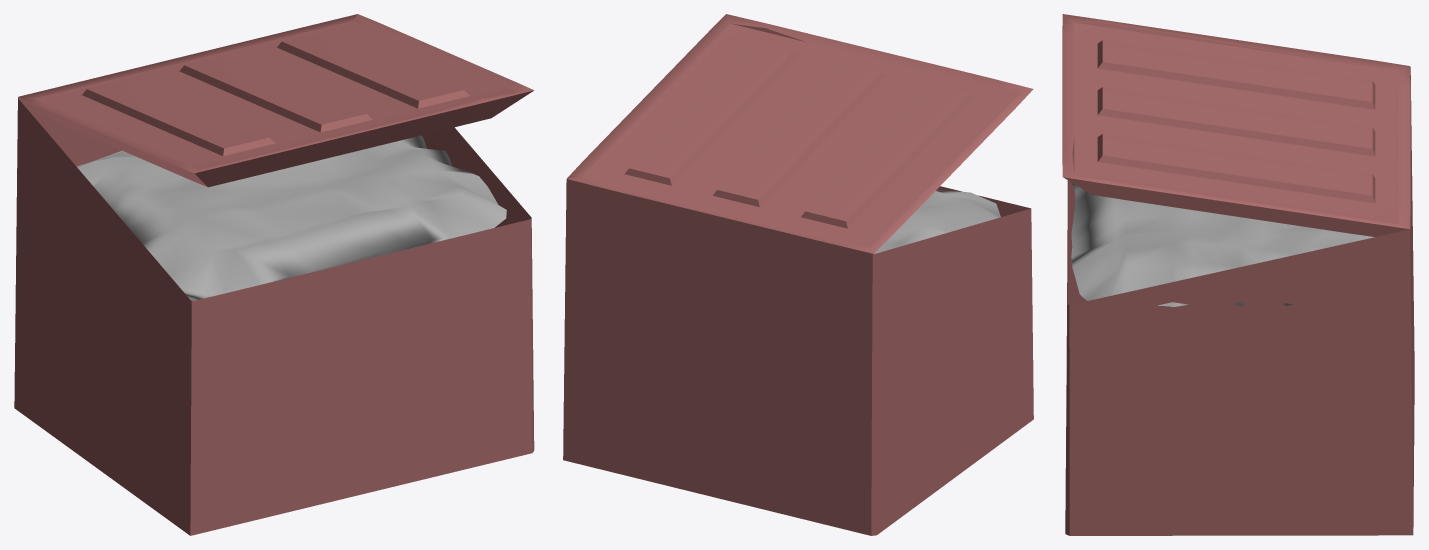
File: P_Basura_Container_JUNTO.fbx
3 views of the same model, side by side, from view 1: azimuth 30°, elevation 25°; view 2: azimuth 150°, elevation 25°; view 3: azimuth 270°, elevation 25° (orthographic). The views are drawn at different scales.
Parts seen in each view (by area): view 1: polySurface1; view 2: polySurface1; view 3: polySurface1.
Boxes of the visible parts, x1,y1,x2,y2 form: polySurface1: (14,14,534,535); polySurface1: (563,14,1033,535); polySurface1: (1062,14,1414,535).
Bounding box in the file's own units: 823 × 826 × 738.
